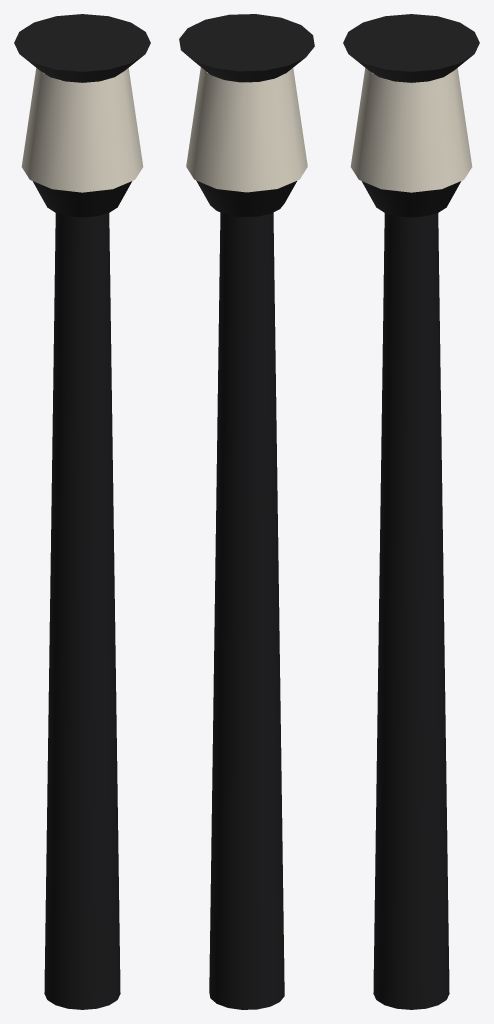
File: lampPost.glb
3 views of the same model, side by side, from view 1: azimuth 90°, elevation 25°; view 2: azimuth 150°, elevation 25°; view 3: azimuth 270°, elevation 25° (orthographic).
Parts seen in each view (by area): view 1: lampPost; view 2: lampPost; view 3: lampPost.
Boxes of the visible parts, x1,y1,x2,y2 form: lampPost: [14, 14, 150, 1009]; lampPost: [179, 14, 314, 1009]; lampPost: [343, 14, 479, 1009].
Size of the model in its own units: 0.36 by 2.76 by 0.36.
